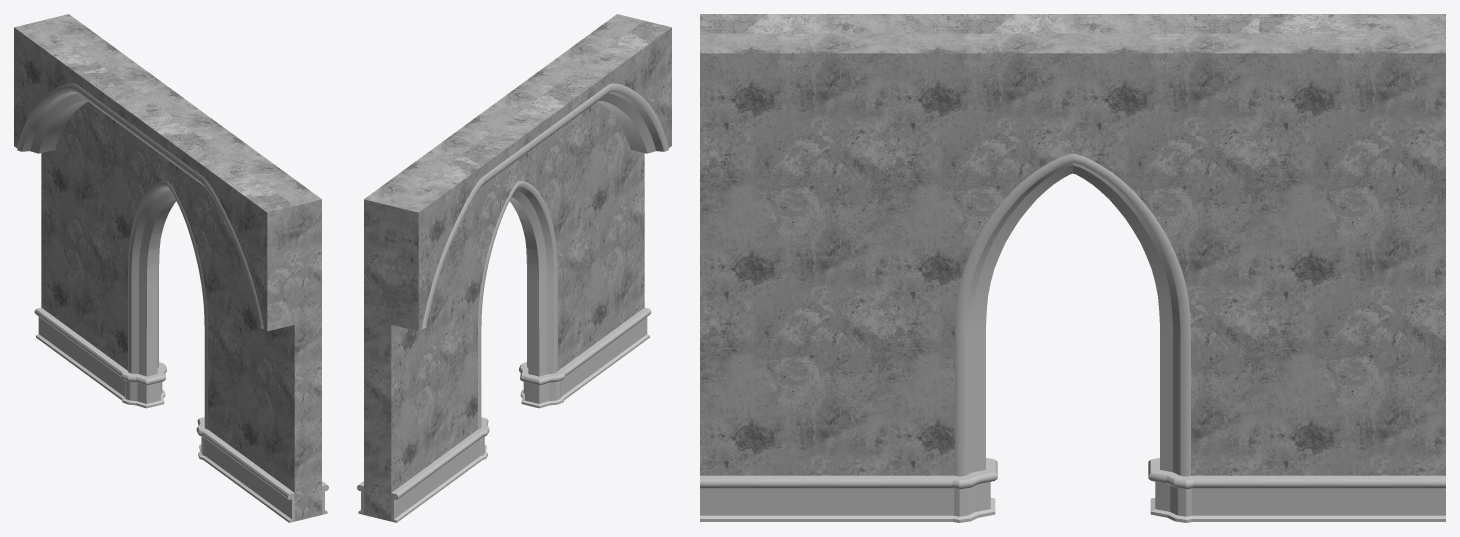
File: SM_BalconyGate_02a.fbx
The picture shows the model from 3 angles, left to right: view 1: azimuth 30°, elevation 25°; view 2: azimuth 150°, elevation 25°; view 3: azimuth 270°, elevation 25°; orthographic projection. The views are drawn at different scales.
Parts seen in each view (by area): view 1: SM_BalconyGate_02a_LOD0; view 2: SM_BalconyGate_02a_LOD0; view 3: SM_BalconyGate_02a_LOD0.
Boxes of the visible parts, <box> form: SM_BalconyGate_02a_LOD0: <box>14,14,328,522</box>; SM_BalconyGate_02a_LOD0: <box>357,14,671,522</box>; SM_BalconyGate_02a_LOD0: <box>700,14,1445,522</box>.
Bounding box in the file's own units: 237 × 1600 × 1100.
